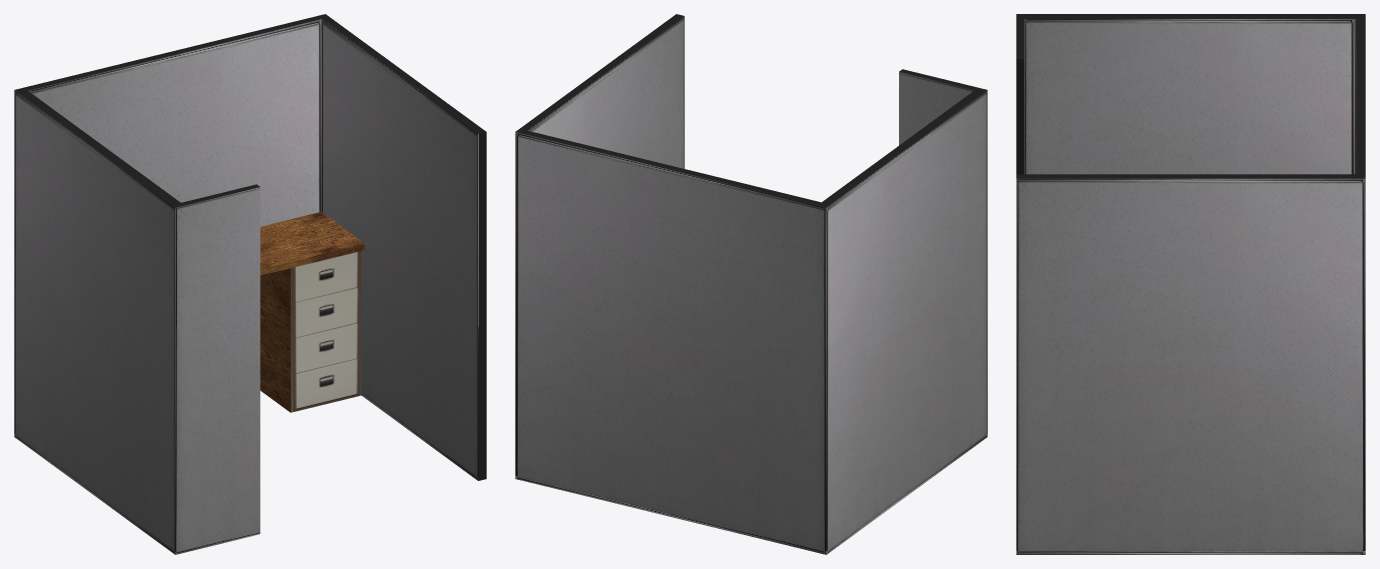
File: cubical.fbx
The picture shows the model from 3 angles, left to right: view 1: azimuth 30°, elevation 25°; view 2: azimuth 150°, elevation 25°; view 3: azimuth 270°, elevation 25°; orthographic projection. The views are drawn at different scales.
Visible parts, largest first — view 1: Cube.012; view 2: Cube.012; view 3: Cube.012.
Boxes of the visible parts, <box> form: Cube.012: <box>14,14,486,554</box>; Cube.012: <box>515,14,987,554</box>; Cube.012: <box>1016,14,1365,554</box>.
Bounding box in the file's own units: 325 × 347 × 292.
1 material, 1 textured.
